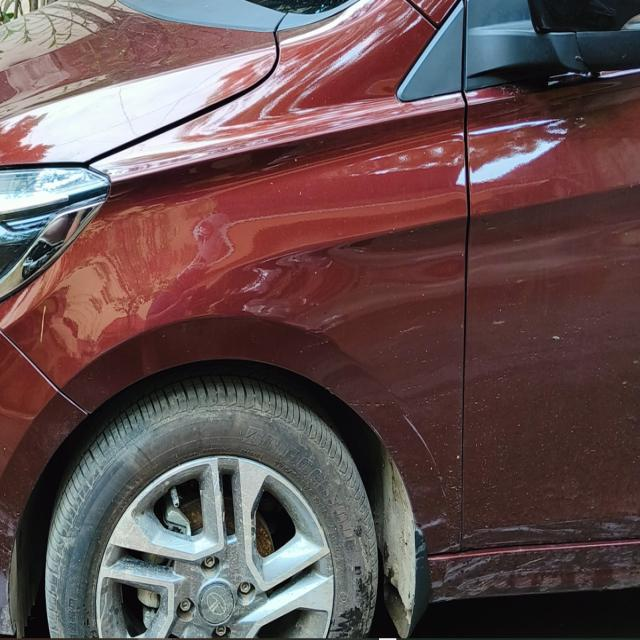scratch: (396, 408, 452, 494), (392, 320, 438, 344), (483, 310, 515, 337), (546, 329, 570, 346)
